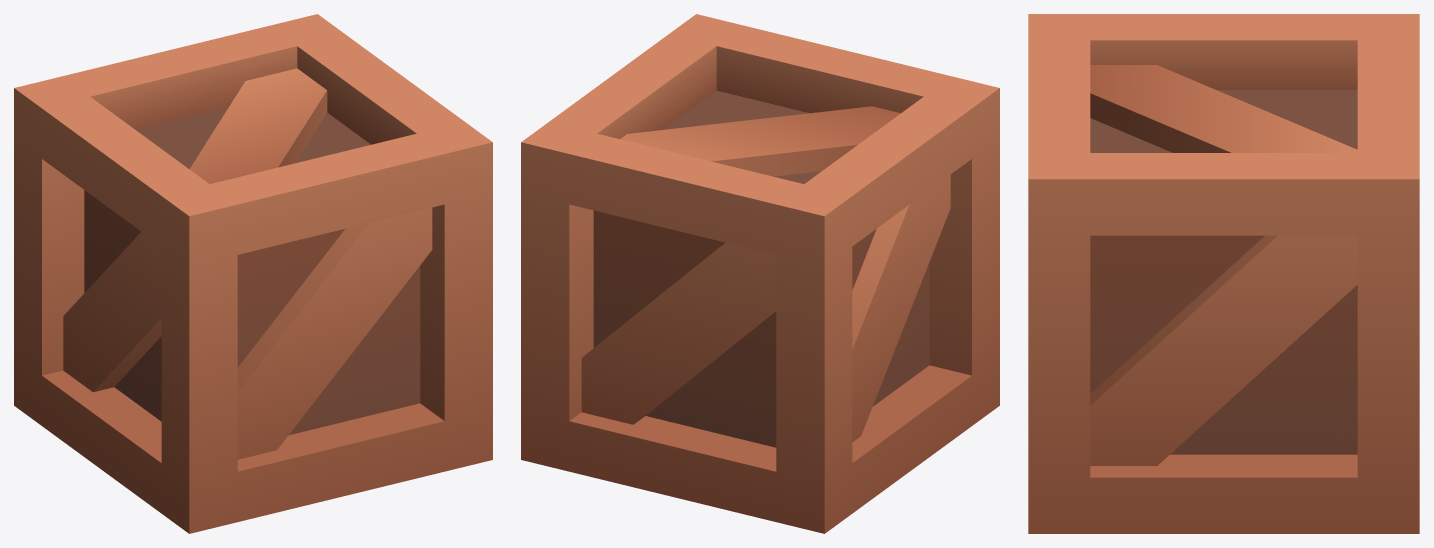
Rendered from crate.glb.
3 views of the same model, side by side, from view 1: azimuth 30°, elevation 25°; view 2: azimuth 150°, elevation 25°; view 3: azimuth 270°, elevation 25° (orthographic). The views are drawn at different scales.
Visible parts, largest first — view 1: crate; view 2: crate; view 3: crate.
Part boxes in pixels (x1,y1,x2,y2): crate: (14, 14, 492, 533); crate: (521, 14, 999, 533); crate: (1028, 14, 1419, 533).
Bounding box in the file's own units: 0.9 × 0.9 × 0.9.
Materials: 1 (1 with a texture image).
